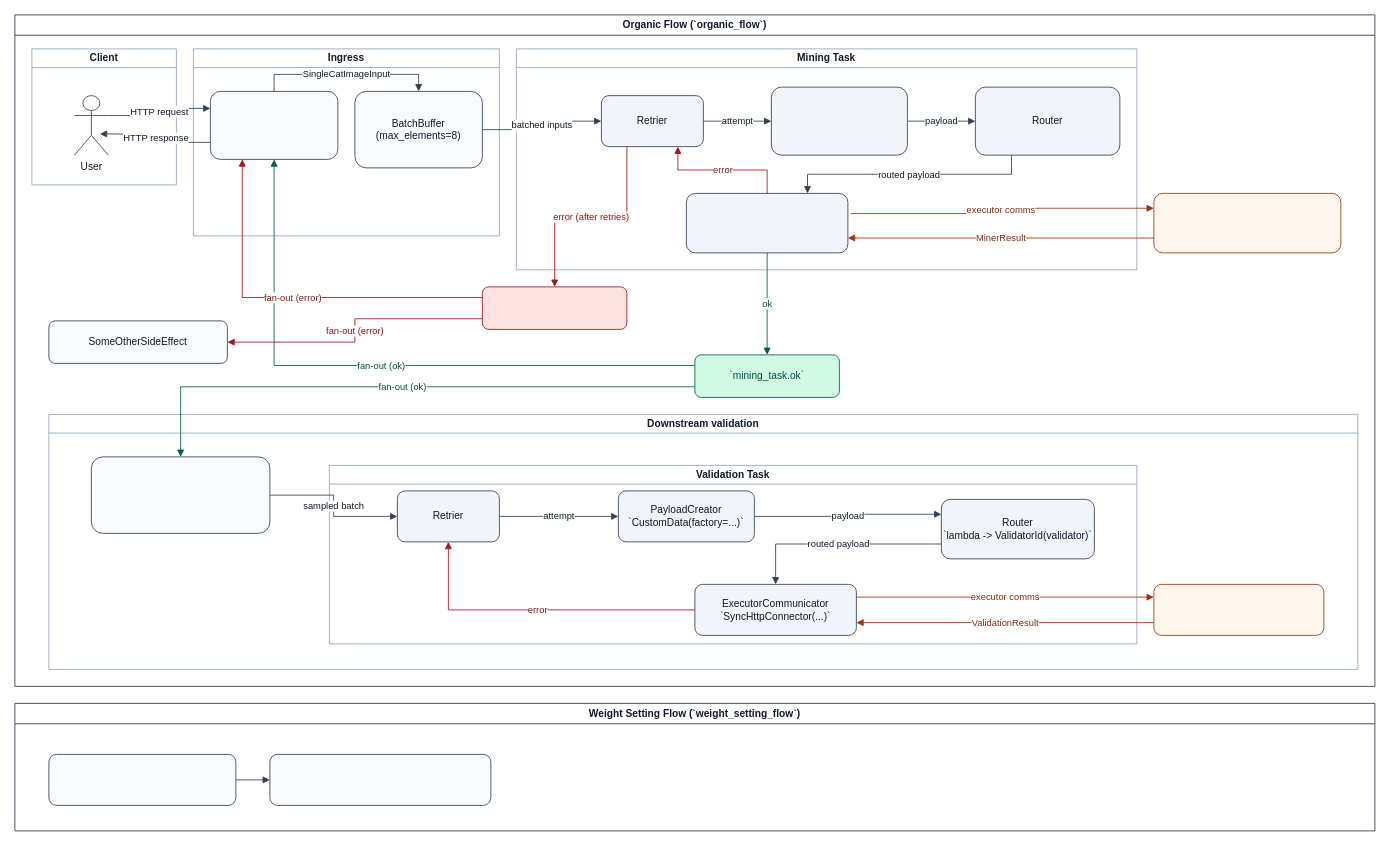
Some shapes in this 1390 by 846 pixel diagram are drawn without their labels. Here are the shapes that lost their labels. From the top down, the centre of each, then its label:
point 274,125: RestEntryPoint `/cat` (rest_endpoint)
point 839,120: PayloadCreator S3PresignUrlAdder
point 767,223: ExecutorCommunicator `AsyncHttpConnector(...)`
point 1247,223: Registered Miners `registered_miners(cat-images)`
point 554,307: `mining_task.error`
point 180,494: MinerResultSampler
point 1238,609: Validation Executor `ValidatorId(validator)`
point 142,779: BlockBasedTrigger (after_epoch_delay_blocks=15)
point 380,779: SetWeightsUsing `CatImagesSubnet.compute_weights`
